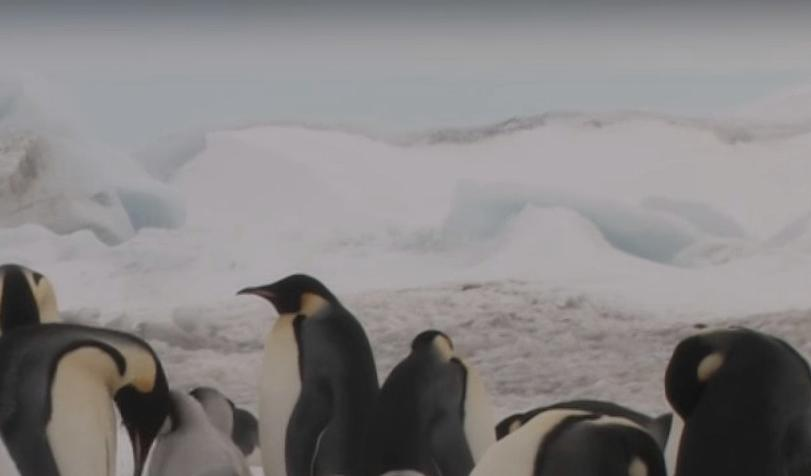Emperor Penguin: (0, 313, 177, 476), (657, 316, 811, 476), (235, 259, 365, 444), (424, 401, 659, 476), (0, 254, 68, 366), (0, 342, 55, 476)
